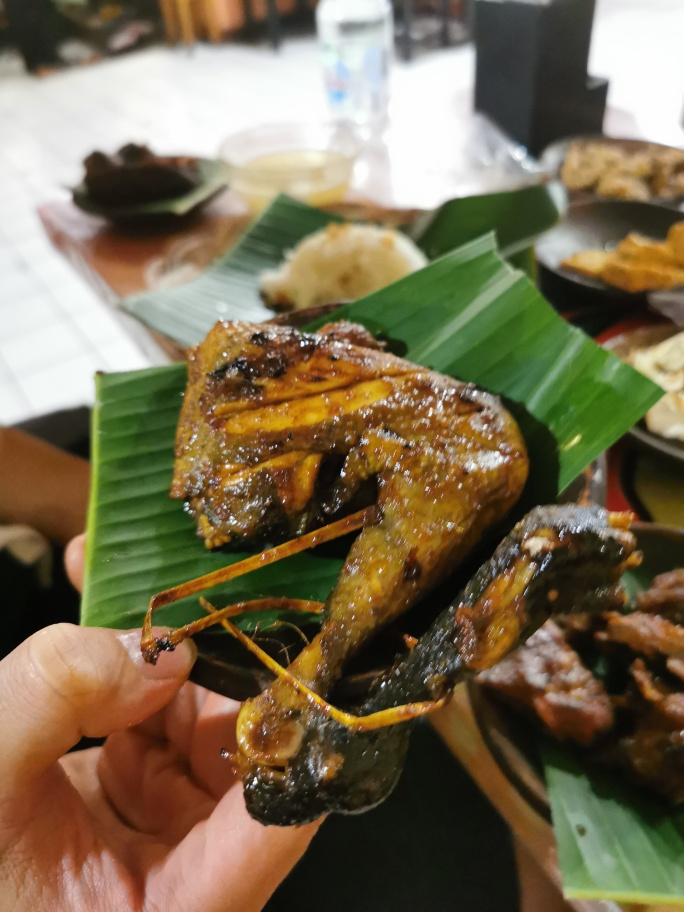ayam bakar: (175, 315, 641, 813)
